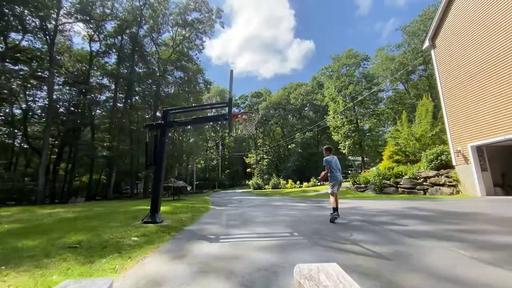human: (317, 146, 344, 224)
rim: (235, 111, 260, 133)
